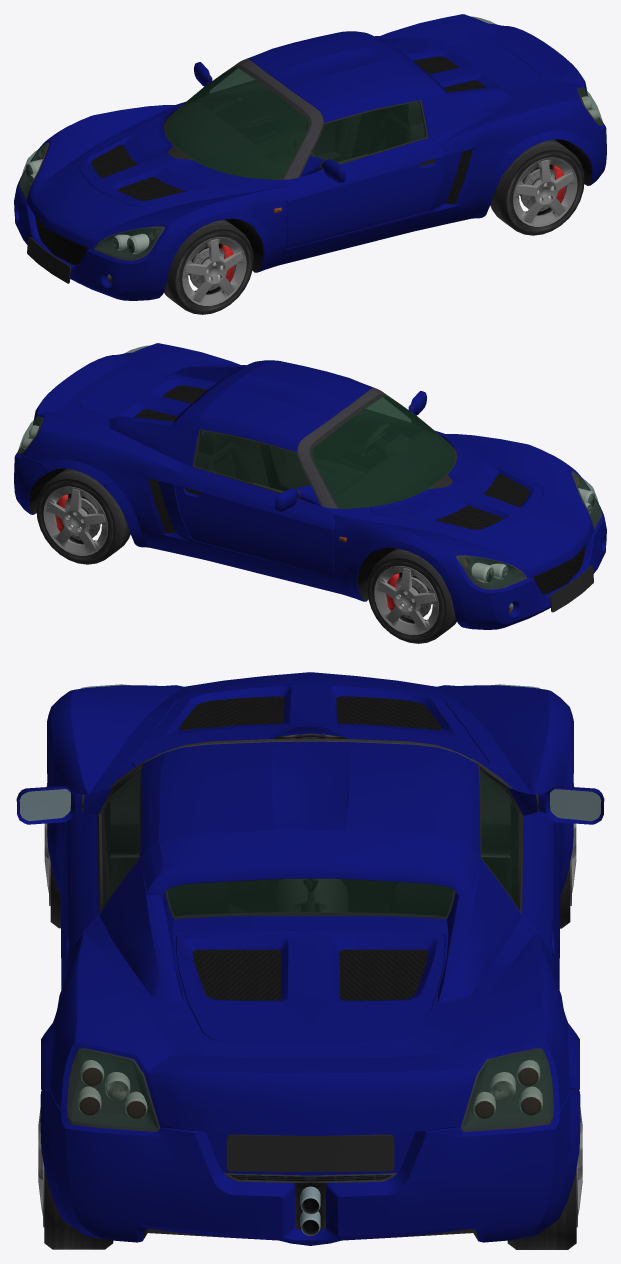
3 views of the same model, one above another, from view 1: azimuth 30°, elevation 25°; view 2: azimuth 150°, elevation 25°; view 3: azimuth 270°, elevation 25° (orthographic). The views are drawn at different scales.
Visible parts, largest first — view 1: bodyshell001, bodyshell_glass, door, interior, hood, bumper_front, door_glass, door_interior001, trunk_door, tier001, rims001, rims (+19 smaller); view 2: bodyshell001, interior, bodyshell_glass, door002, hood, bumper_front, door_glass001, trunk_door, tier003, door_interior, rims003, rims002 (+19 smaller); view 3: bodyshell001, bumper_rear, trunk_door, interior, hood, bodyshell_glass, bumper_rear_trim, trunk_door_grill, backlights_glass001, backlights_glass, hood_grill, backlights_plastic (+19 smaller).
Part boxes in pixels (left/top/right/bottom): bodyshell001: left=26, top=14, right=597, bottom=272; bodyshell_glass: left=165, top=67, right=419, bottom=179; door: left=286, top=101, right=446, bottom=248; interior: left=166, top=67, right=425, bottom=179; hood: left=78, top=117, right=250, bottom=206; bumper_front: left=14, top=160, right=178, bottom=300; door_glass: left=310, top=101, right=425, bottom=163; door_interior001: left=196, top=81, right=306, bottom=143; trunk_door: left=404, top=41, right=539, bottom=90; tier001: left=490, top=139, right=584, bottom=235; rims001: left=513, top=157, right=577, bottom=226; rims: left=182, top=237, right=246, bottom=305; bodyshell001: left=23, top=343, right=594, bottom=601; interior: left=195, top=396, right=454, bottom=508; bodyshell_glass: left=201, top=396, right=455, bottom=508; door002: left=174, top=430, right=334, bottom=577; hood: left=370, top=446, right=542, bottom=535; bumper_front: left=442, top=489, right=606, bottom=629; door_glass001: left=195, top=430, right=310, bottom=492; trunk_door: left=81, top=370, right=216, bottom=419; tier003: left=36, top=468, right=130, bottom=564; door_interior: left=314, top=410, right=424, bottom=472; rims003: left=43, top=486, right=108, bottom=555; rims002: left=374, top=566, right=438, bottom=634; bodyshell001: left=41, top=672, right=579, bottom=1136; bumper_rear: left=40, top=1089, right=580, bottom=1245; trunk_door: left=176, top=931, right=444, bottom=1044; interior: left=110, top=776, right=510, bottom=915; hood: left=131, top=680, right=489, bottom=766; bodyshell_glass: left=167, top=738, right=453, bottom=916; bumper_rear_trim: left=142, top=1134, right=478, bottom=1240; trunk_door_grill: left=192, top=949, right=428, bottom=1000; backlights_glass001: left=463, top=1050, right=553, bottom=1128; backlights_glass: left=67, top=1050, right=157, bottom=1128; hood_grill: left=178, top=696, right=442, bottom=729; backlights_plastic: left=67, top=1048, right=159, bottom=1131.
Size of the model in its own units: 148 by 42.99 by 71.84.
